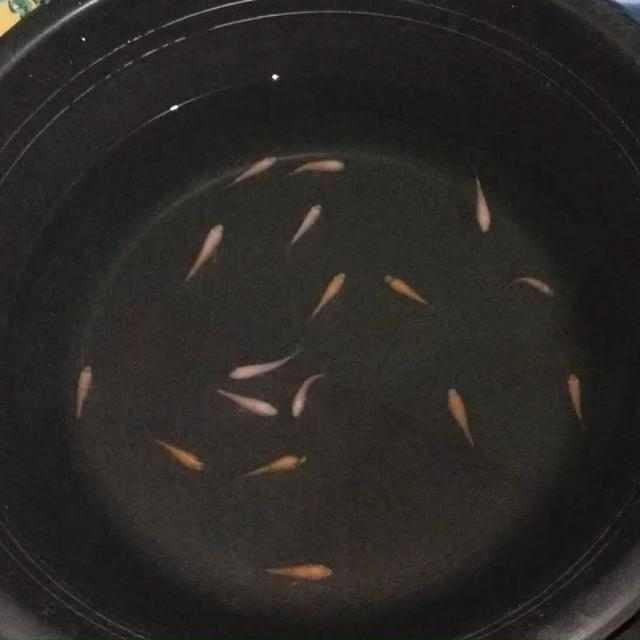nila: (172, 221, 226, 291), (224, 341, 304, 384), (212, 148, 282, 196), (442, 382, 484, 460), (300, 269, 348, 334), (382, 270, 447, 316), (232, 447, 312, 482), (211, 383, 281, 420), (152, 433, 206, 473), (256, 558, 336, 584), (467, 163, 495, 236), (496, 268, 558, 300), (284, 200, 324, 249), (291, 368, 325, 424), (68, 361, 96, 428), (283, 155, 353, 180), (564, 368, 586, 428)
